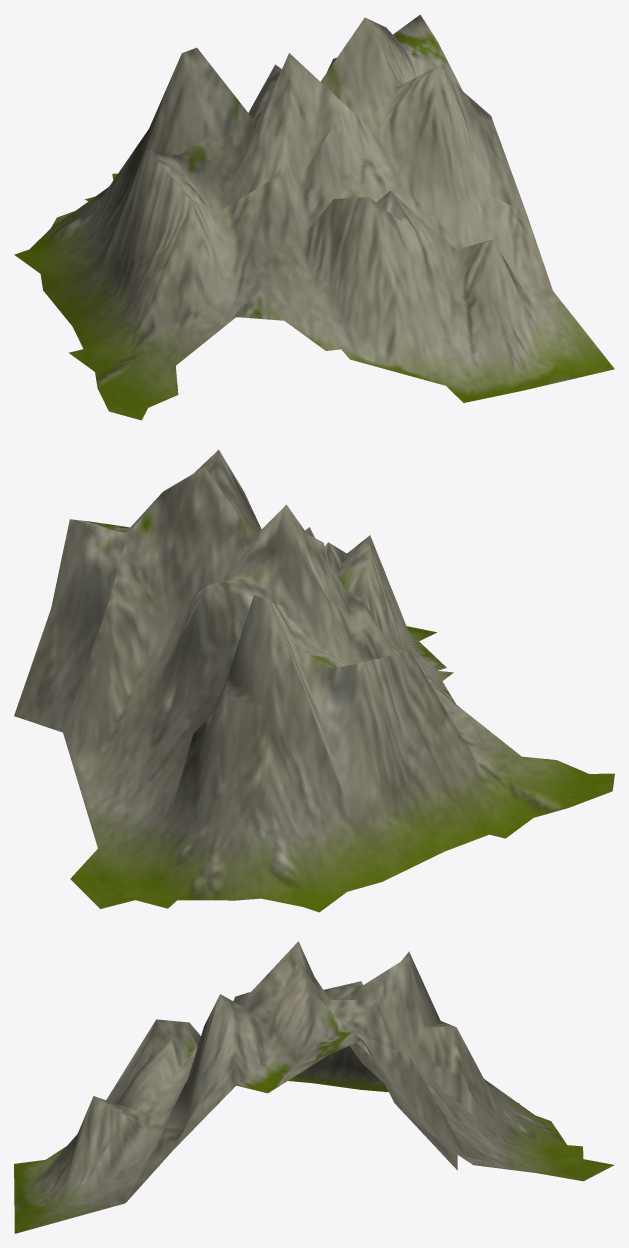
The model's file is Terrain_17.fbx.
3 views of the same model, one above another, from view 1: azimuth 30°, elevation 25°; view 2: azimuth 150°, elevation 25°; view 3: azimuth 270°, elevation 25° (orthographic). The views are drawn at different scales.
Parts seen in each view (by area): view 1: Terrain_17; view 2: Terrain_17; view 3: Terrain_17.
Part boxes in pixels (x1,y1,x2,y2): Terrain_17: (14,14,614,420); Terrain_17: (14,449,614,912); Terrain_17: (14,941,614,1233).
Size of the model in its own units: 21.87 by 13.77 by 30.7.
